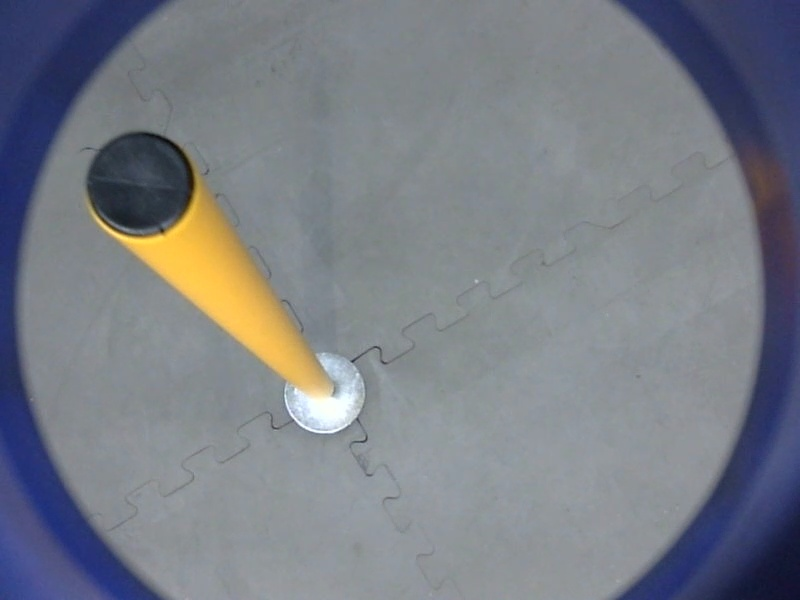tip: (75, 123, 207, 245)
